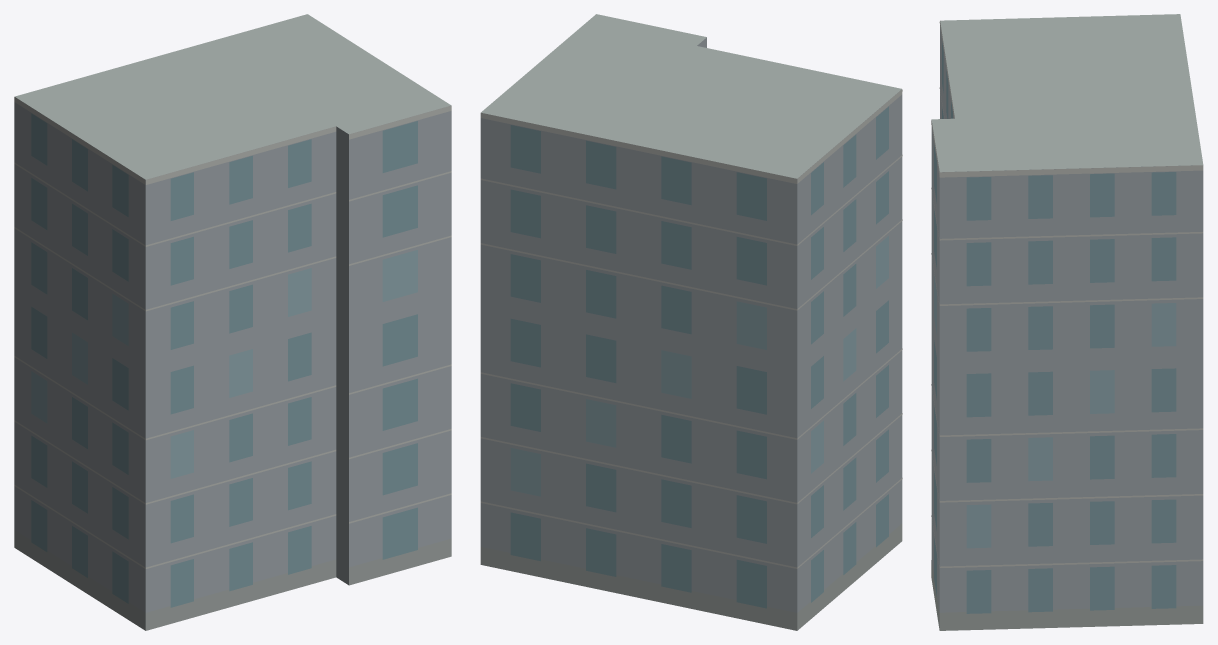
Rendered from survey-upis-32797699.glb.
The picture shows the model from 3 angles, left to right: view 1: azimuth 30°, elevation 25°; view 2: azimuth 150°, elevation 25°; view 3: azimuth 270°, elevation 25°; orthographic projection.
Visible parts, largest first — view 1: survey-upis-32797699.tmp; view 2: survey-upis-32797699.tmp; view 3: survey-upis-32797699.tmp.
Part boxes in pixels (x1=…): survey-upis-32797699.tmp: x1=14, y1=14, x2=451, y2=630; survey-upis-32797699.tmp: x1=480, y1=14, x2=902, y2=630; survey-upis-32797699.tmp: x1=931, y1=14, x2=1203, y2=630.
Size of the model in its own units: 15.26 by 20.6 by 11.09.
